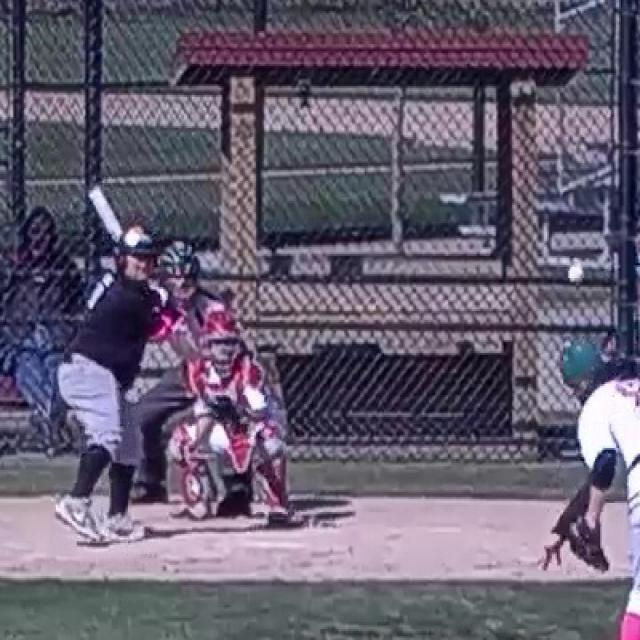baseball: (568, 267, 584, 283)
